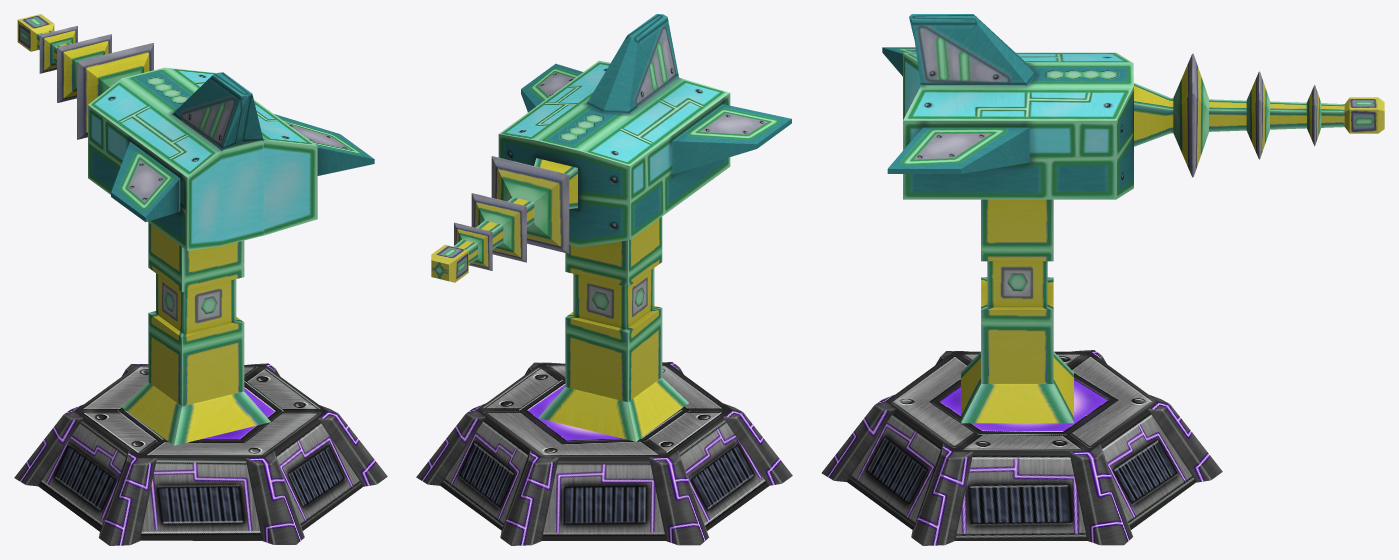
File: Tower_DisablerDoT.FBX
3 renders of one model, left to right at view 1: azimuth 30°, elevation 25°; view 2: azimuth 150°, elevation 25°; view 3: azimuth 270°, elevation 25°, orthographic. The views are drawn at different scales.
Visible parts, largest first — view 1: Base_DisablerDoT, Body_DisablerDoT; view 2: Base_DisablerDoT, Body_DisablerDoT; view 3: Base_DisablerDoT, Body_DisablerDoT.
Boxes of the visible parts, box(x1,y1,x2,y2) form: Base_DisablerDoT: box(14, 222, 387, 545); Body_DisablerDoT: box(17, 14, 374, 250); Base_DisablerDoT: box(416, 217, 792, 545); Body_DisablerDoT: box(431, 14, 791, 282); Base_DisablerDoT: box(821, 199, 1222, 545); Body_DisablerDoT: box(882, 14, 1384, 199).
Size of the model in its own units: 25.65 by 36.66 by 41.36.
